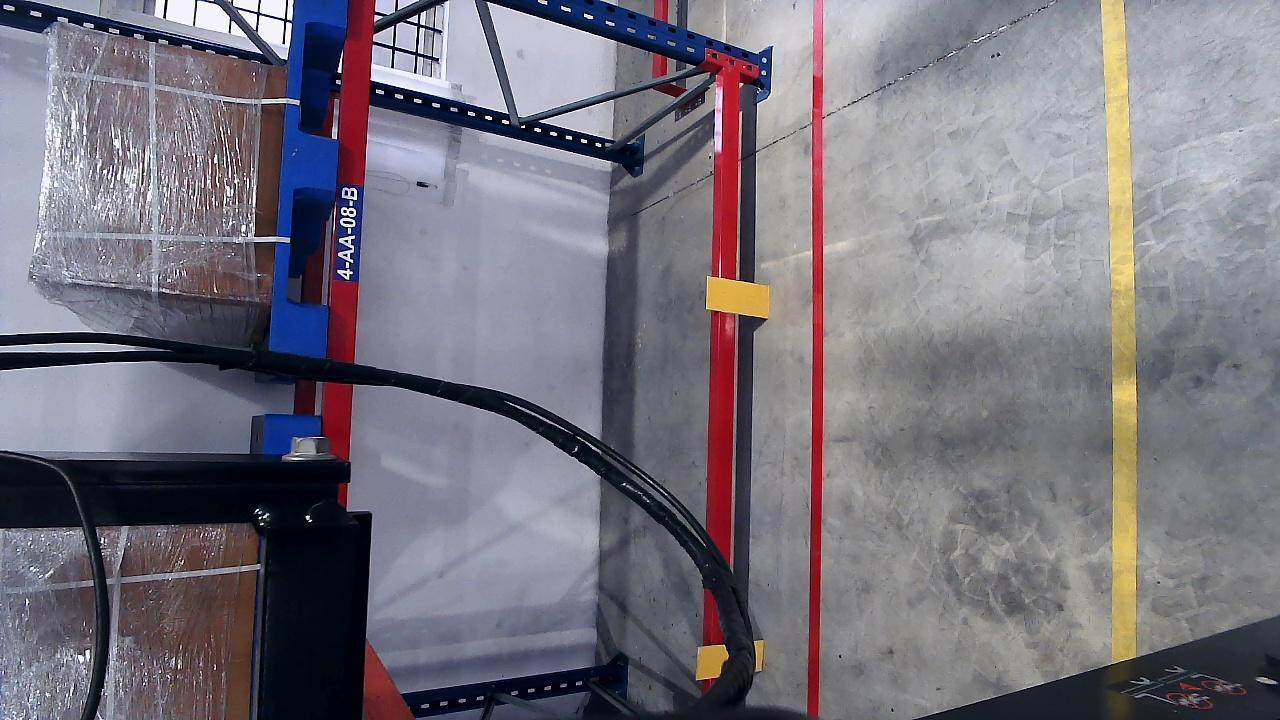red_line: (810, 0, 827, 712)
yellow_line: (1100, 0, 1141, 657)
